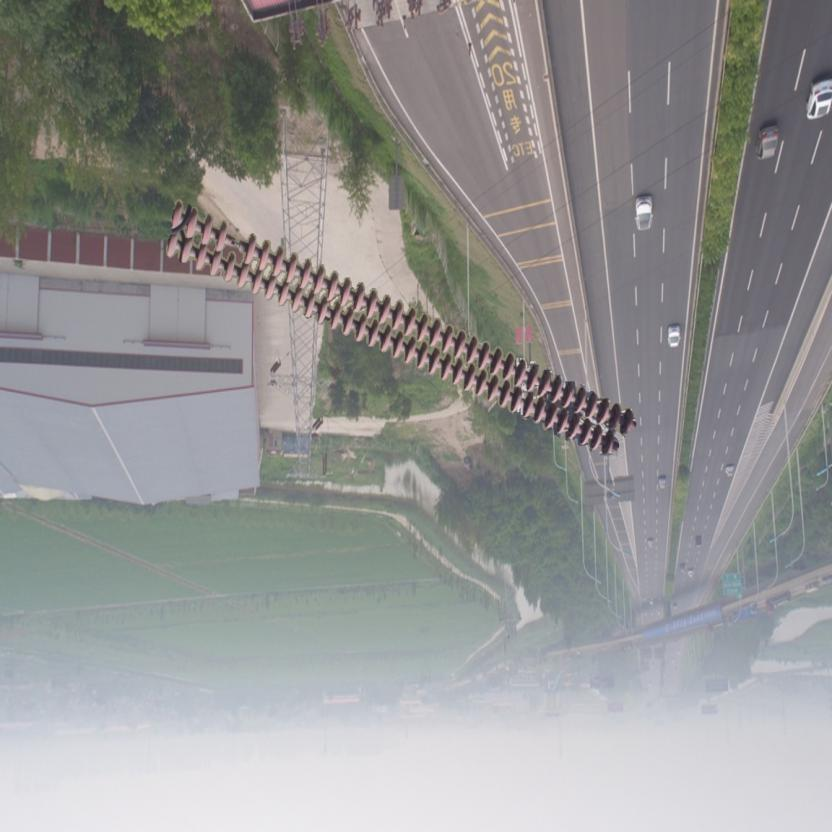defect: (212, 221, 258, 268)
